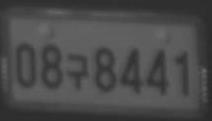0: (15, 42, 36, 88)
1: (173, 50, 196, 96)
4: (120, 47, 144, 94), (146, 48, 170, 95)
8: (40, 43, 63, 89), (94, 46, 117, 92)
구: (66, 53, 90, 89)
